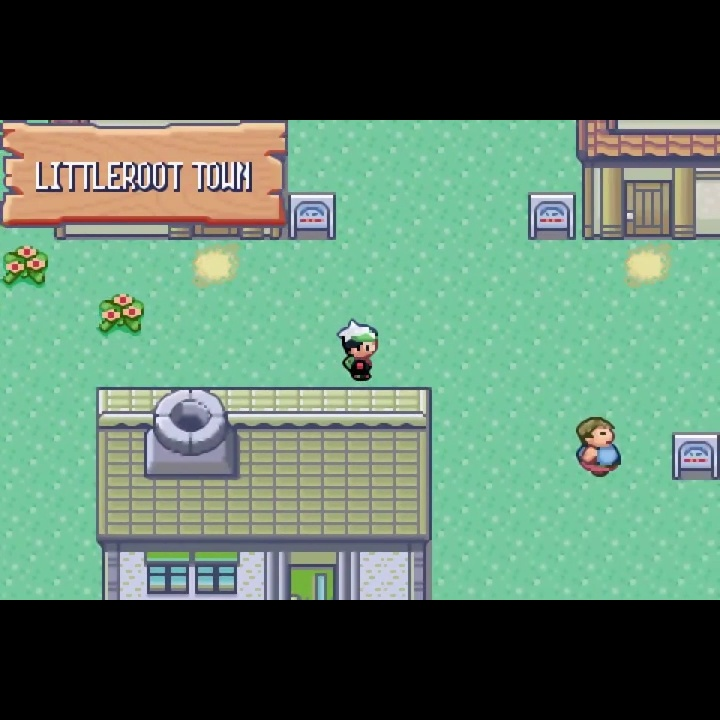house: (93, 385, 434, 600), (575, 119, 720, 245)
npc: (571, 411, 625, 479), (335, 317, 381, 383)
